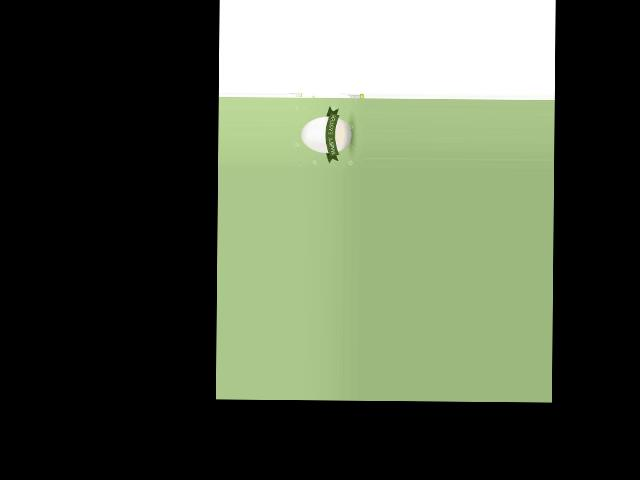egg: (301, 115, 351, 152)
